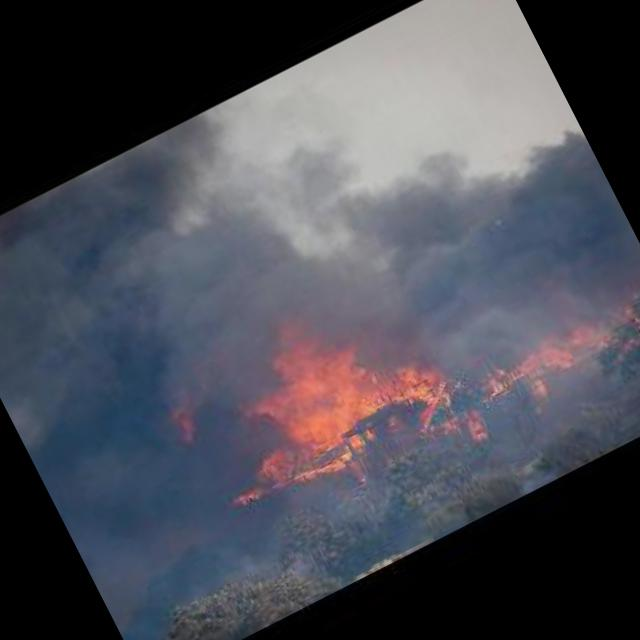fire: (137, 252, 471, 538), (472, 290, 634, 407)
smoke: (0, 66, 398, 469), (340, 63, 640, 384)
